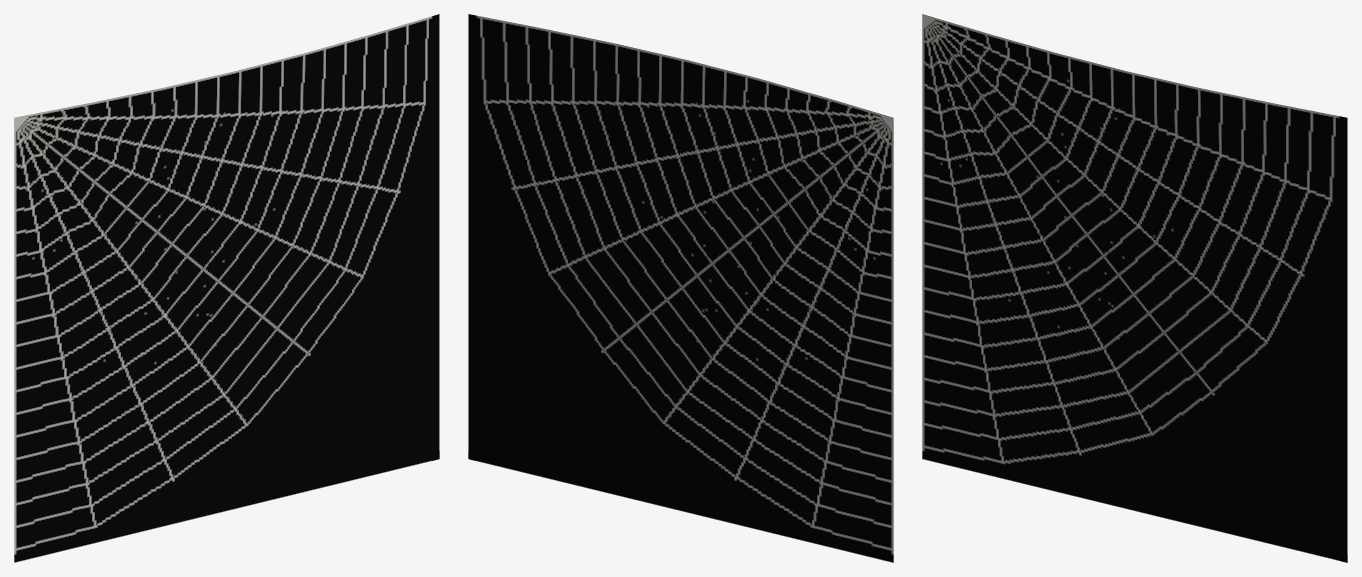
The model's file is cobwebcard.glb.
3 views of the same model, side by side, from view 1: azimuth 30°, elevation 25°; view 2: azimuth 150°, elevation 25°; view 3: azimuth 330°, elevation 25° (orthographic).
Visible parts, largest first — view 1: cobwebcard; view 2: cobwebcard; view 3: cobwebcard.
Part boxes in pixels (bbox=[...]): cobwebcard: bbox=[14, 14, 439, 562]; cobwebcard: bbox=[468, 14, 893, 562]; cobwebcard: bbox=[922, 14, 1347, 562].
Size of the model in its own units: 0.39 by 0.39 by 0.012.
Materials: 1 (1 with a texture image).
